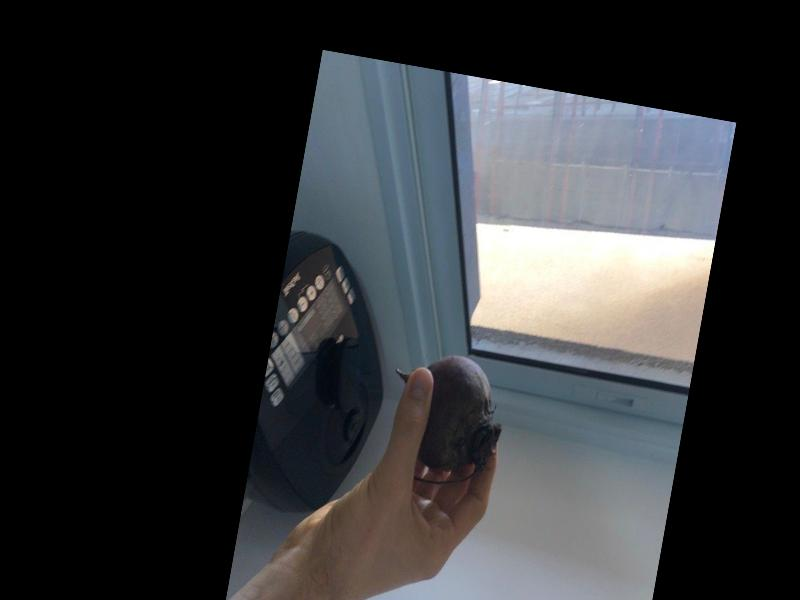Beet: (378, 345, 512, 492)
